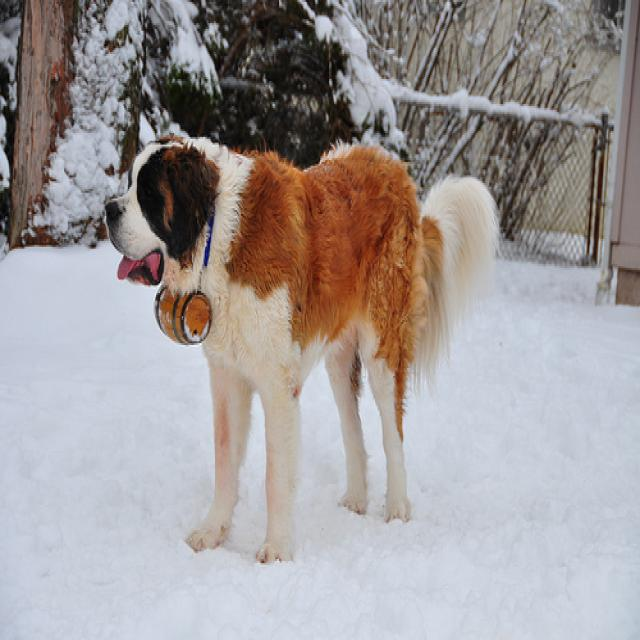dog-saint_bernard: (99, 129, 503, 571)
